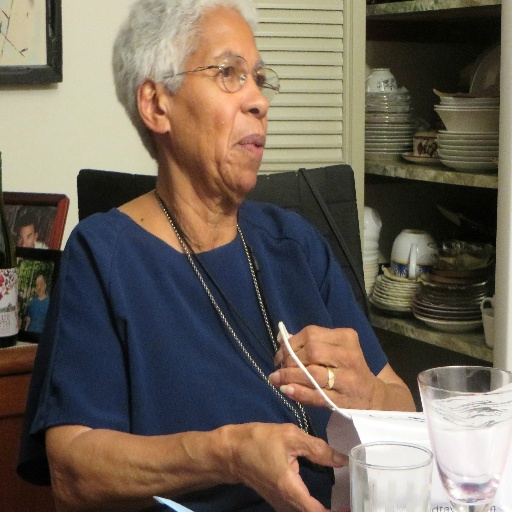hand: (231, 422, 351, 511), (286, 307, 364, 395)
